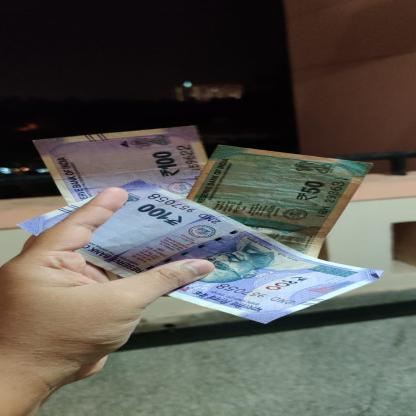New100Front: (17, 178, 384, 325), (31, 125, 210, 206)
New50Front: (186, 144, 376, 259)
